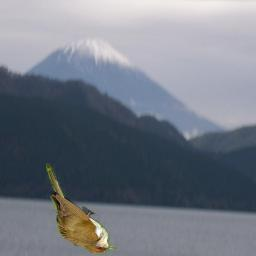Cuckoo: (46, 163, 117, 255)
